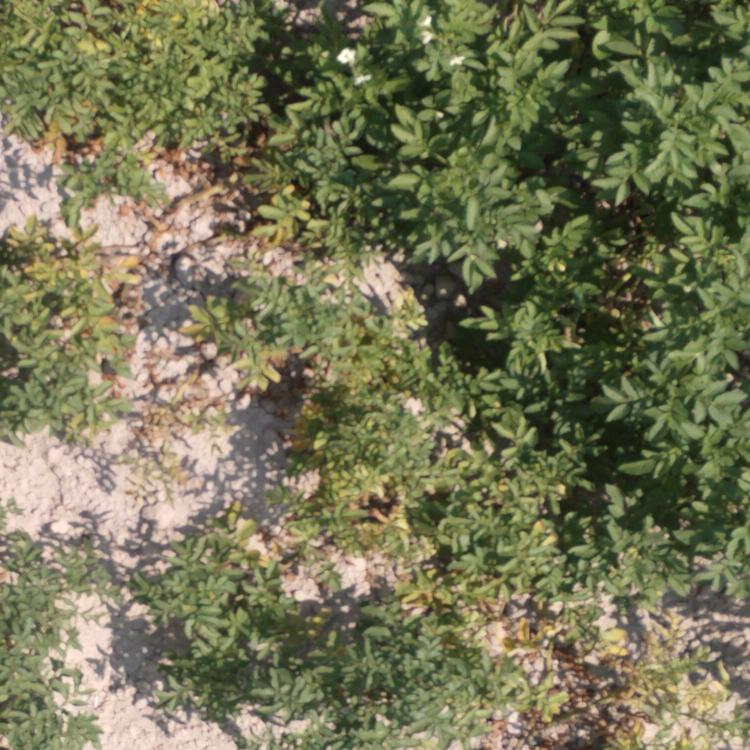healthy: (279, 2, 750, 144), (380, 150, 749, 263), (465, 269, 747, 395), (569, 406, 750, 567), (1, 532, 131, 750)
stressed: (289, 573, 724, 750), (1, 1, 262, 150), (188, 261, 447, 388), (1, 225, 147, 447), (280, 392, 424, 553), (433, 395, 558, 565), (182, 147, 369, 253), (165, 505, 265, 702), (60, 153, 152, 222)
